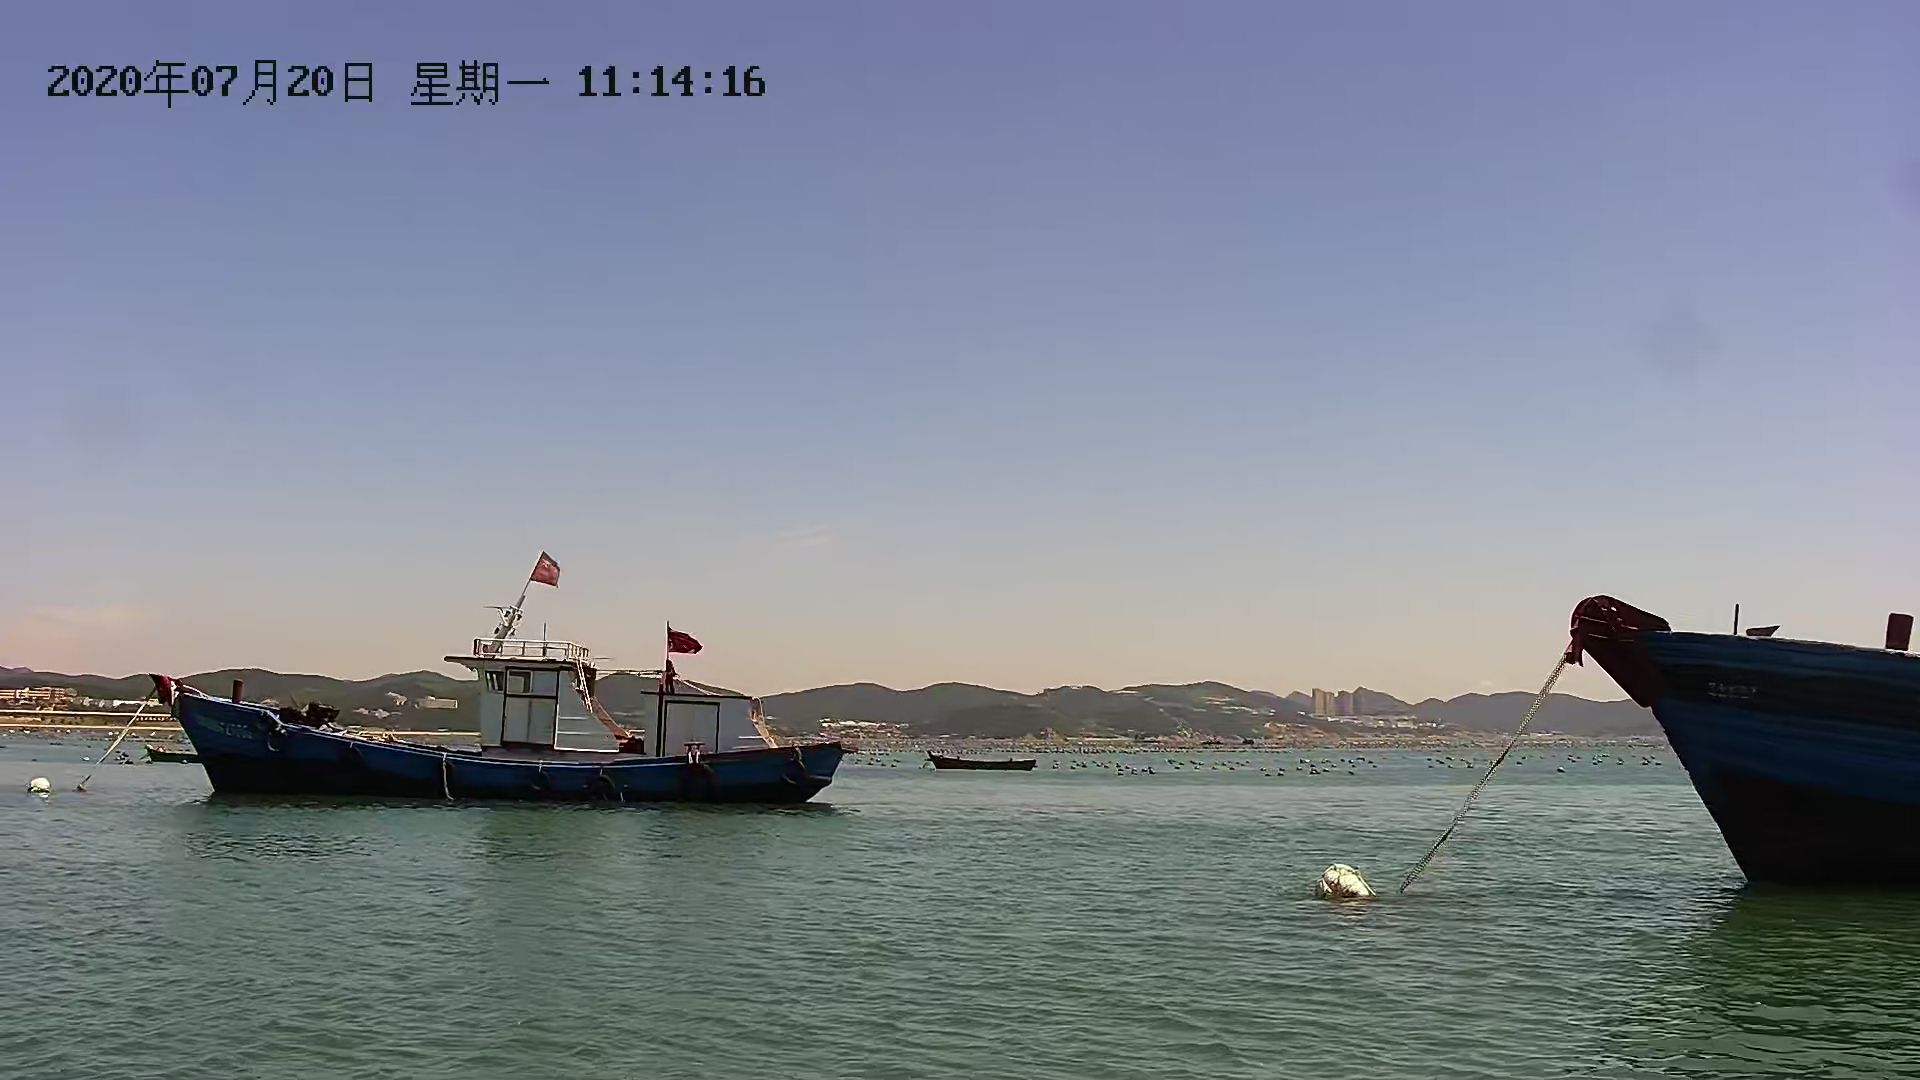ball: (1309, 862, 1375, 898)
boat: (158, 640, 858, 819), (1540, 564, 1920, 866), (913, 753, 1040, 782)
